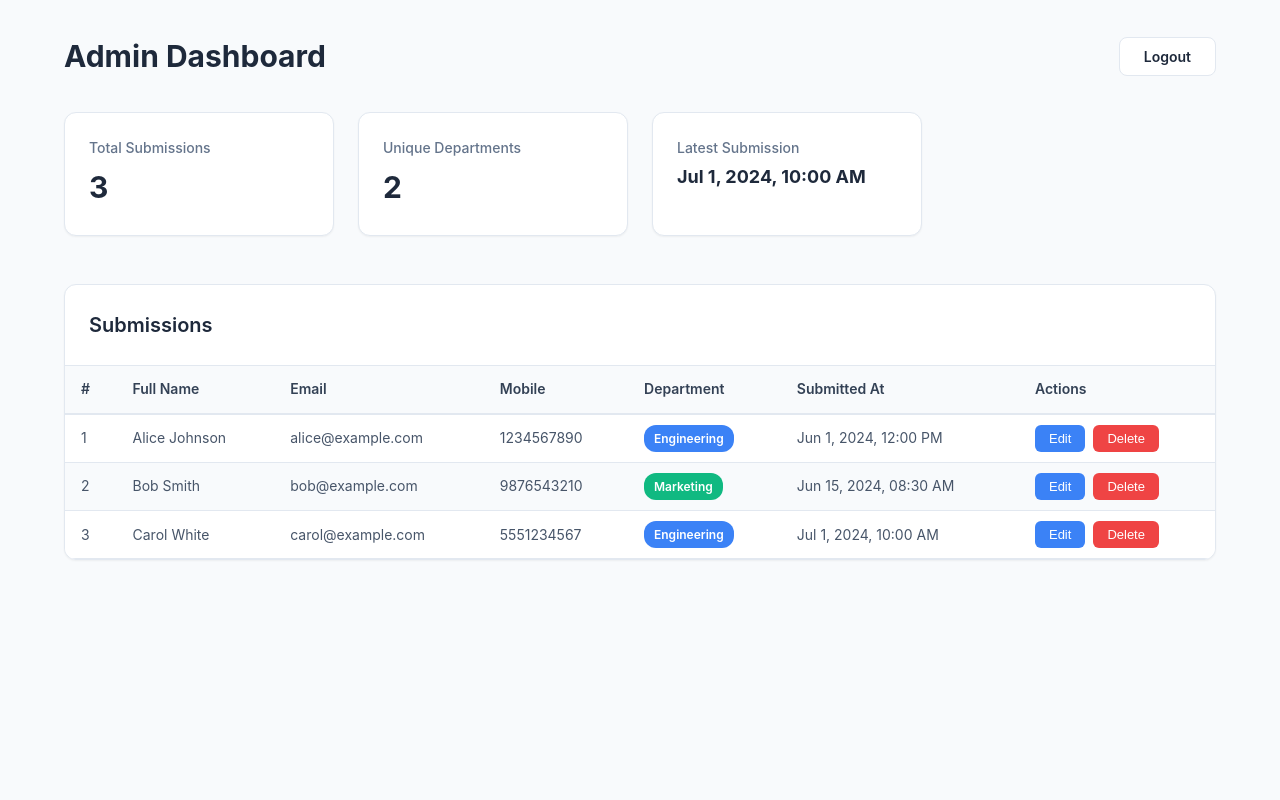
Scenario: AdminDashboard › edit modal › shows error banner when updateSubmission fails
Click the button with aria-label "edit alice johnson" at x=1060, y=438, box [1035,425,1085,452]
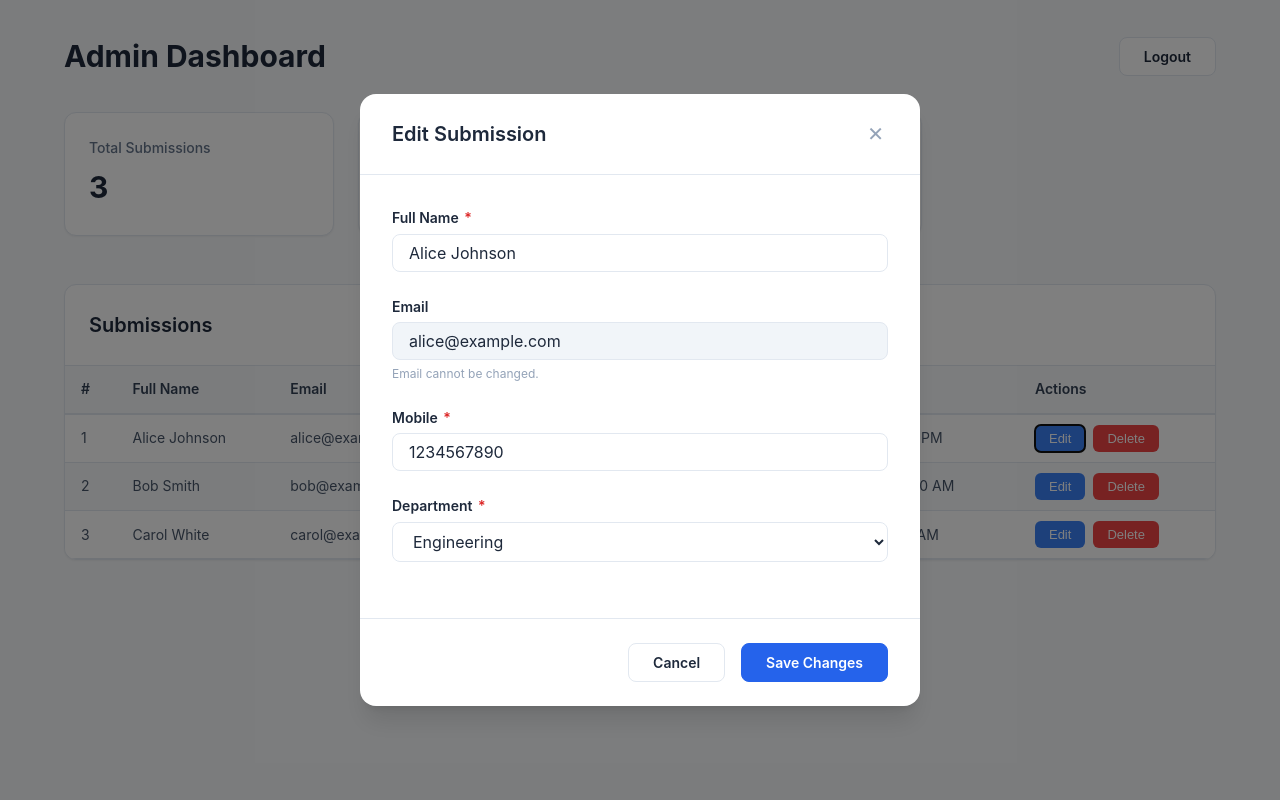
Click the button "Save Changes" at x=815, y=662, box [741,643,888,682]
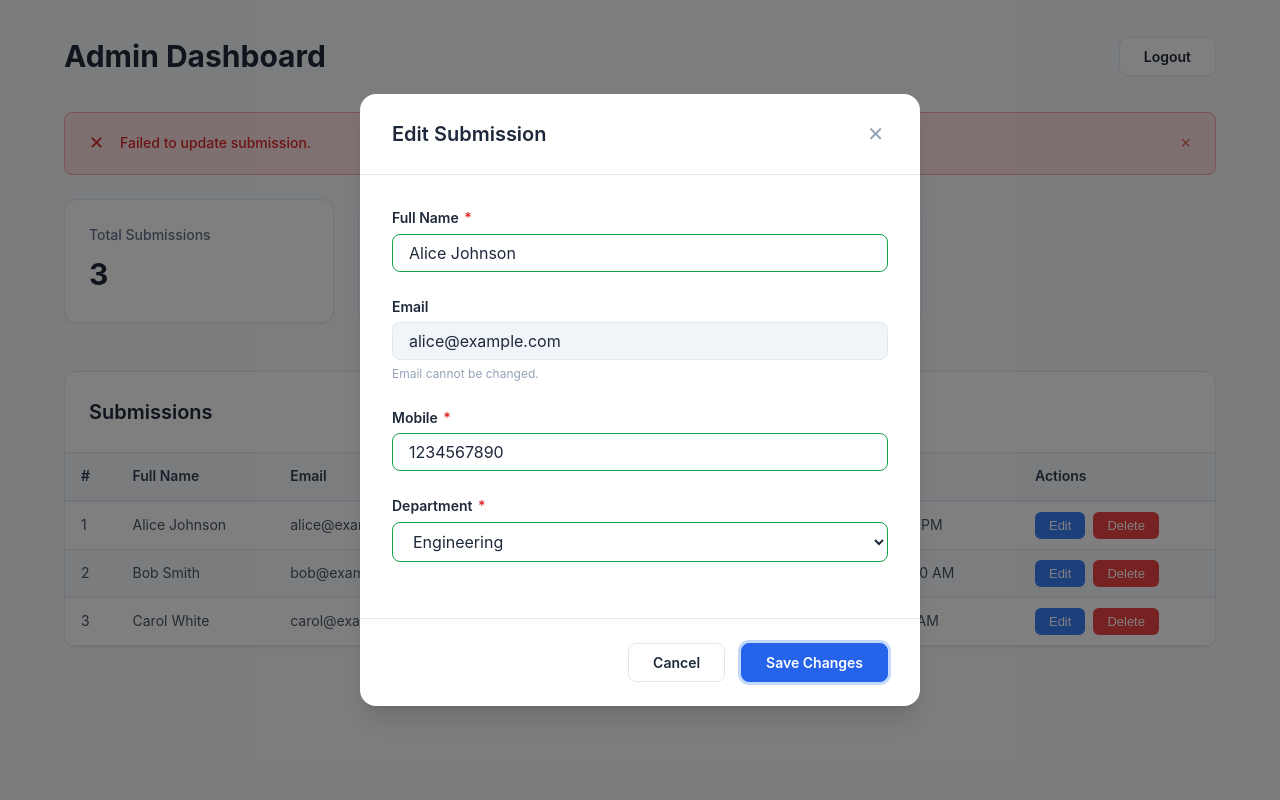
Check: the text "Failed to update submission." is shown, box [120,134,311,151]
